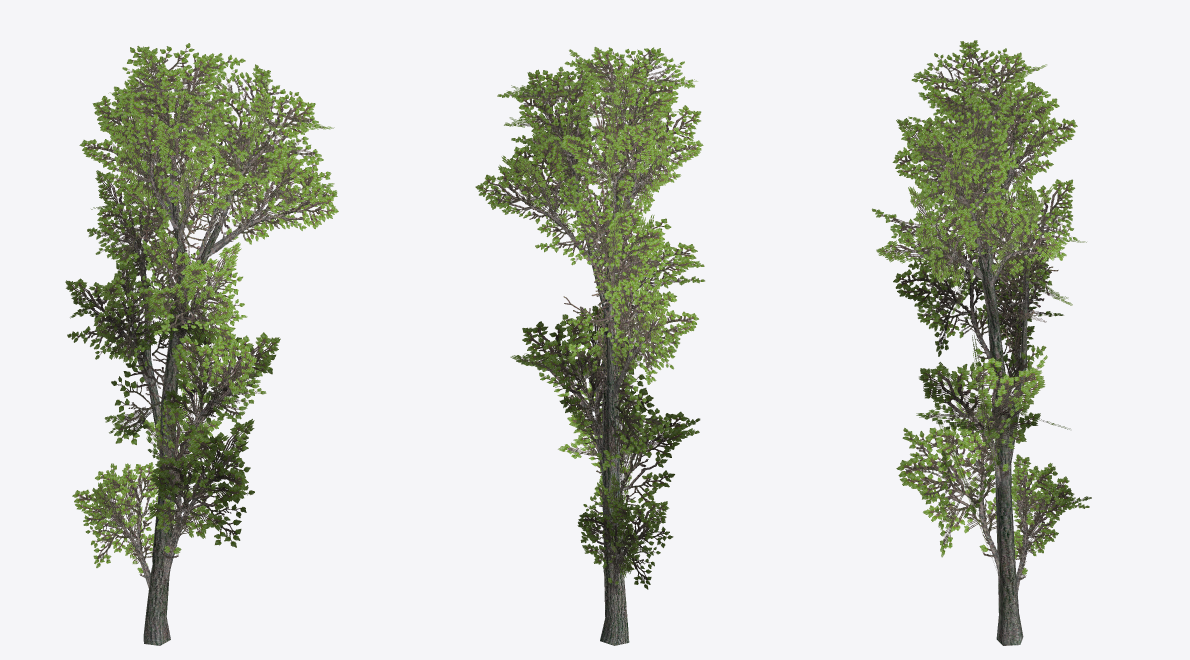
The model's file is poplar-1.glb.
3 renders of one model, left to right at view 1: azimuth 30°, elevation 25°; view 2: azimuth 150°, elevation 25°; view 3: azimuth 270°, elevation 25°, orthographic. The views are drawn at different scales.
Visible parts, largest first — view 1: poplar-1; view 2: poplar-1; view 3: poplar-1.
Boxes of the visible parts, bbox=[...] form: poplar-1: bbox=[65, 43, 338, 645]; poplar-1: bbox=[475, 47, 704, 645]; poplar-1: bbox=[872, 40, 1091, 645].
Bounding box in the file's own units: 12.31 × 21.57 × 11.99.
1 material, 1 textured.
